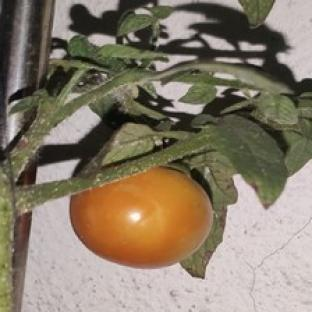Tomato: (70, 168, 213, 267)
